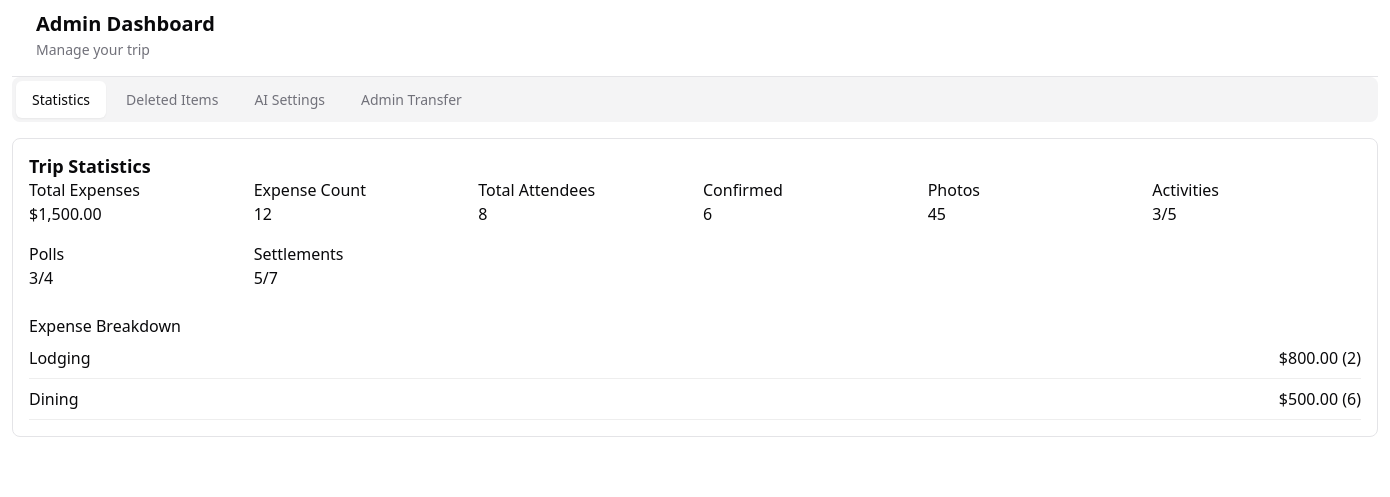
Test: AdminPage › deleted items tab › should filter deleted items by type
This screenshot has width=1390, height=497.
Switch to deleted items tab
Click the tab "Deleted Items".
click(172, 100)  # box [110, 81, 234, 118]
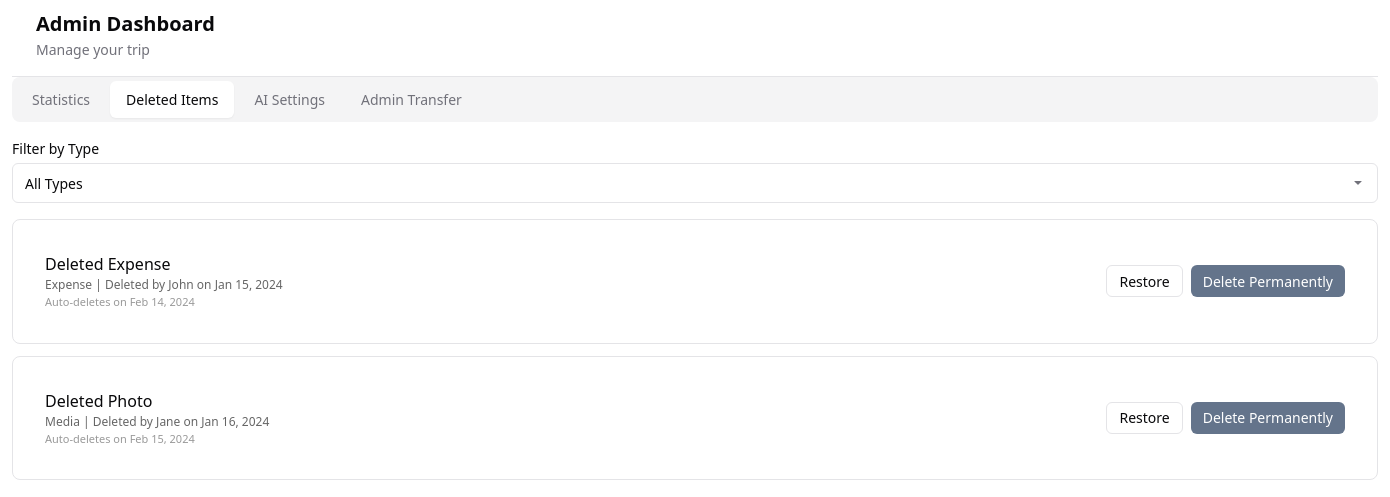
Result: the element with test id "deleted-items-section" is shown
Result: the text "Deleted Expense" is shown at [45, 253, 170, 275]
Result: the text "Deleted Photo" is shown at [45, 390, 152, 412]
Filter by type
Select "Expenses" in the dropdown labelled "Filter by Type" at (695,183), box [12, 163, 1378, 203]
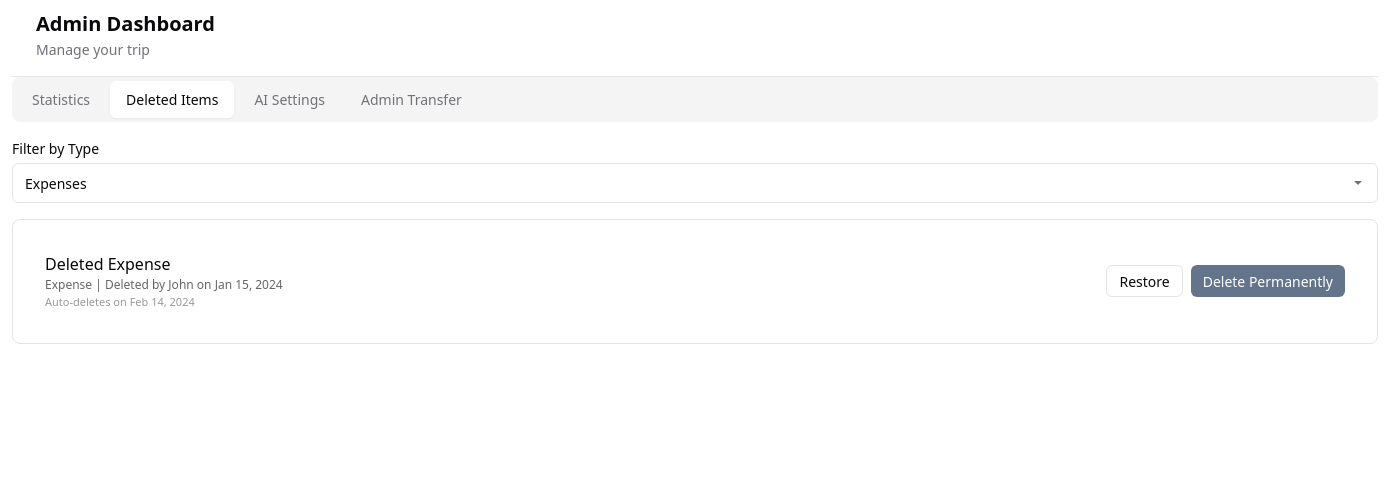
Result: the text "Deleted Expense" is shown at [45, 253, 170, 275]
Result: the text "Deleted Photo" is gone
